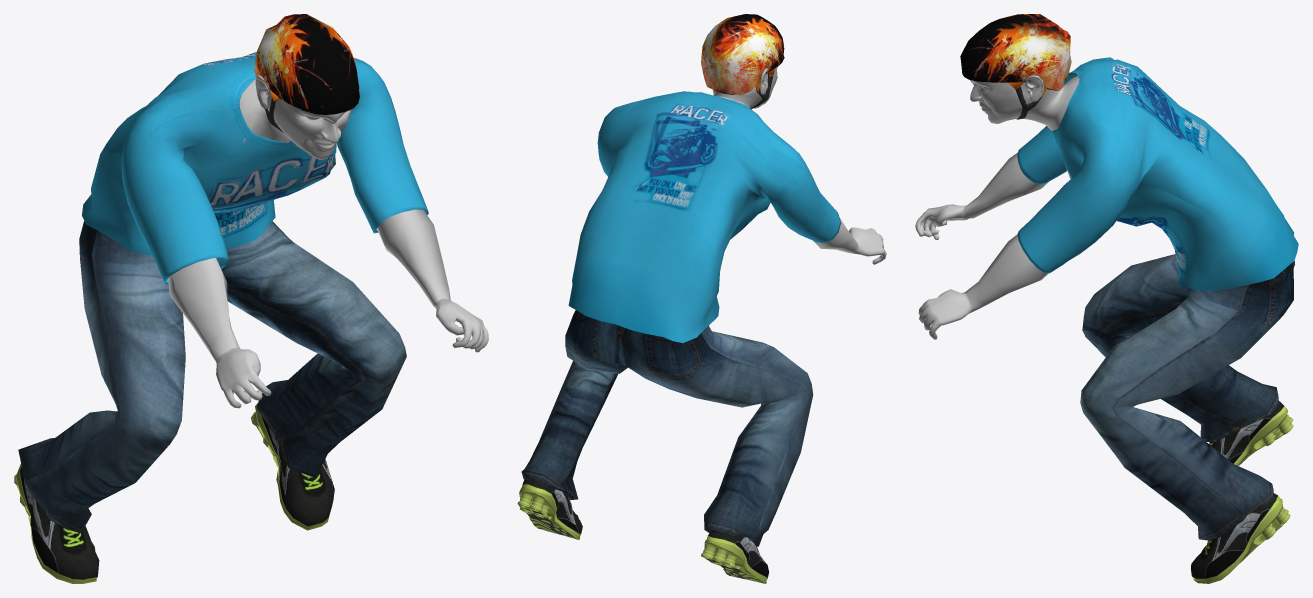
Rendered from anil_charc.fbx.
3 renders of one model, left to right at view 1: azimuth 30°, elevation 25°; view 2: azimuth 150°, elevation 25°; view 3: azimuth 270°, elevation 25°, orthographic. The views are drawn at different scales.
Parts seen in each view (by area): view 1: charecter1; view 2: charecter1; view 3: charecter1.
Part boxes in pixels (x1=…): charecter1: x1=14, y1=14, x2=488, y2=583; charecter1: x1=517, y1=14, x2=886, y2=583; charecter1: x1=915, y1=14, x2=1298, y2=583.
Size of the model in its own units: 9.87 by 19.05 by 12.82.
